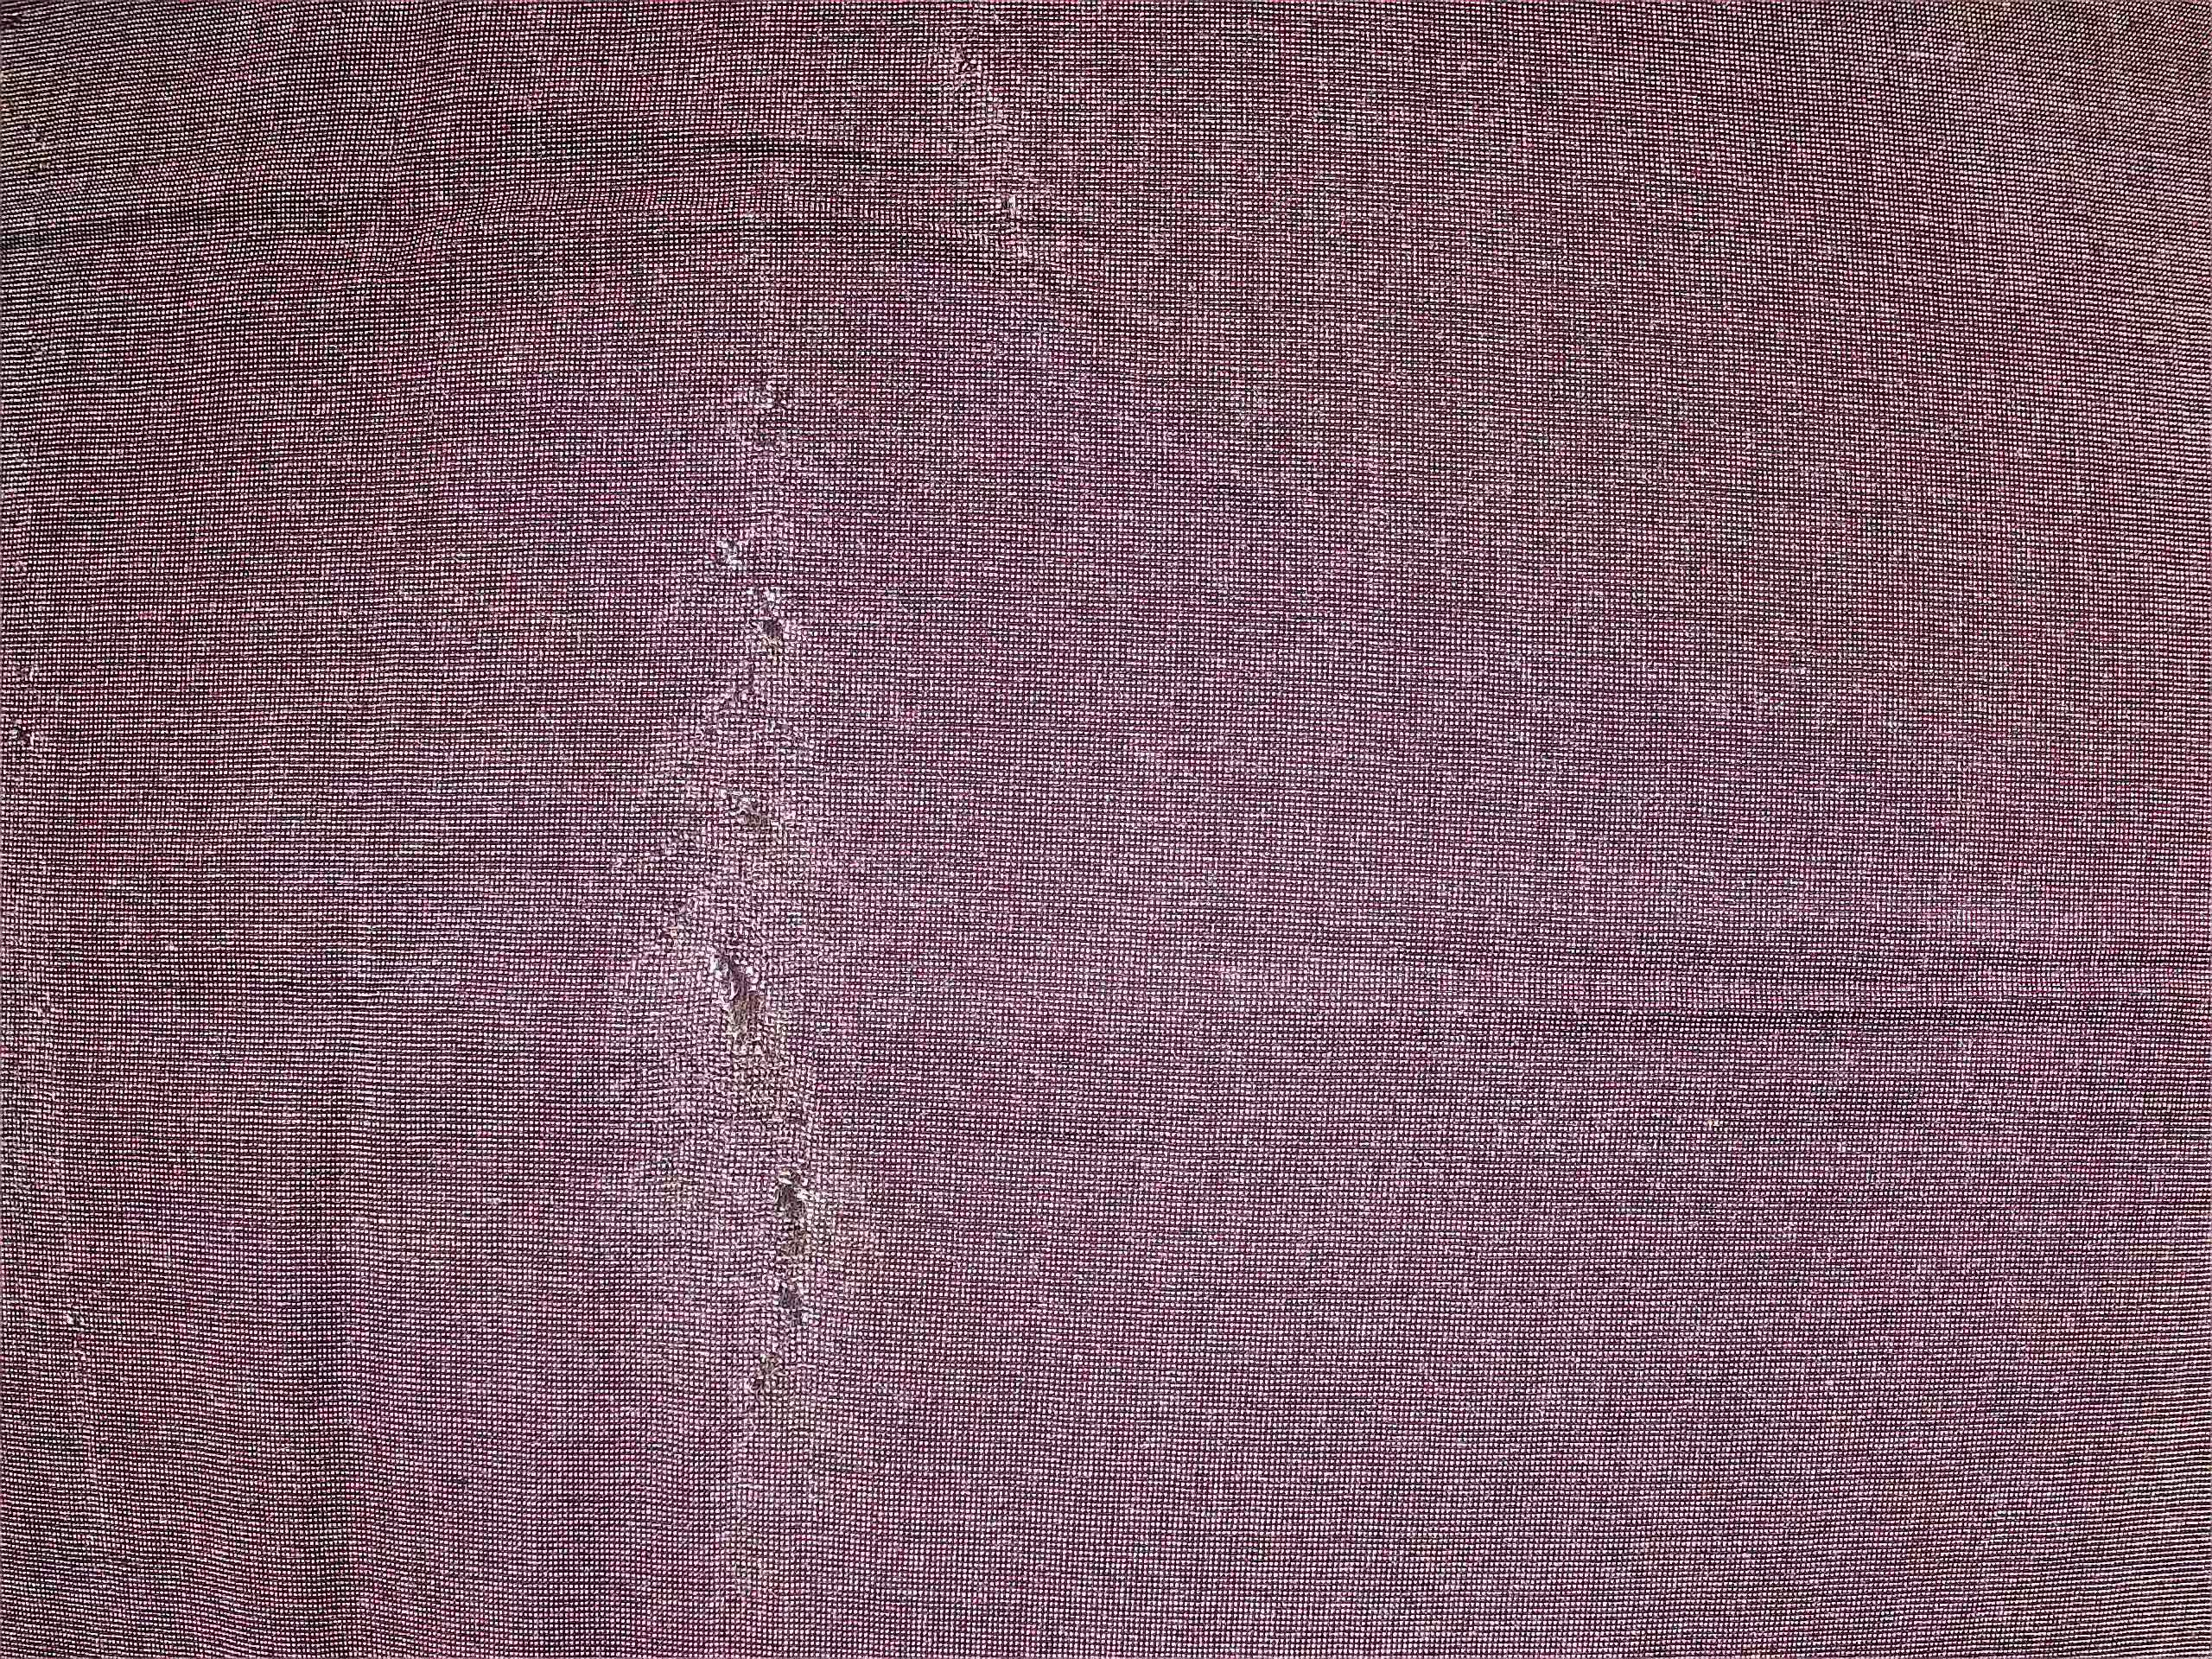rubbing-hole: (648, 326, 887, 1507), (928, 31, 1097, 310), (2, 694, 59, 779)
